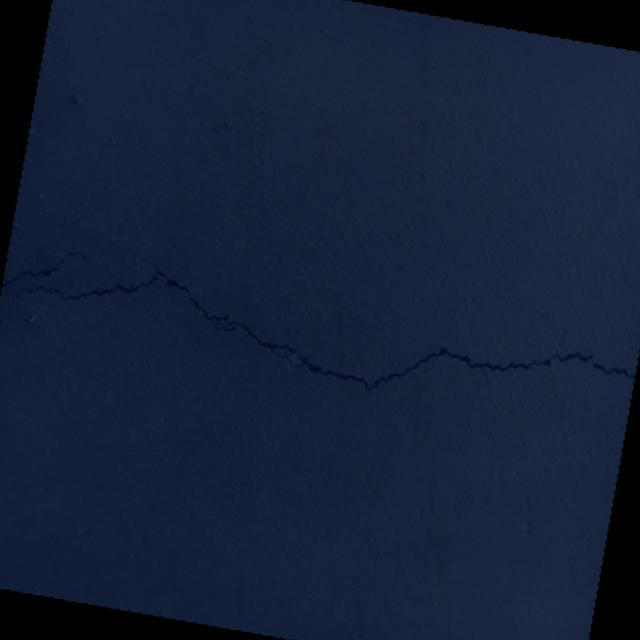crack: (0, 241, 639, 438), (1, 238, 111, 306)
